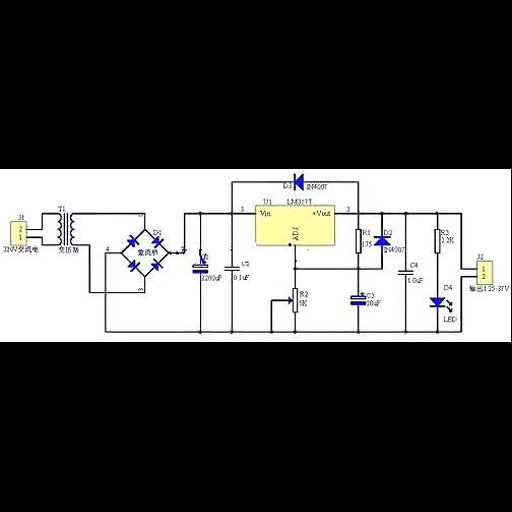capacitor: (222, 264, 241, 273), (396, 268, 415, 277)
firstdiode: (292, 170, 306, 194), (373, 234, 392, 247)
firstled: (426, 292, 455, 314)
firstresistance: (351, 227, 363, 256), (431, 227, 442, 258)
rectifierbridge: (120, 228, 170, 278)
transformer: (53, 213, 80, 246)
